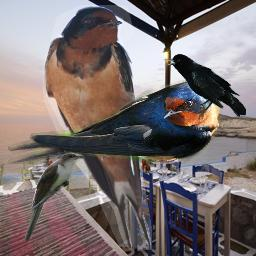Crow: (164, 54, 246, 120)
Cuckoo: (22, 151, 85, 245)
Swallow: (43, 5, 152, 250), (8, 79, 222, 164)
